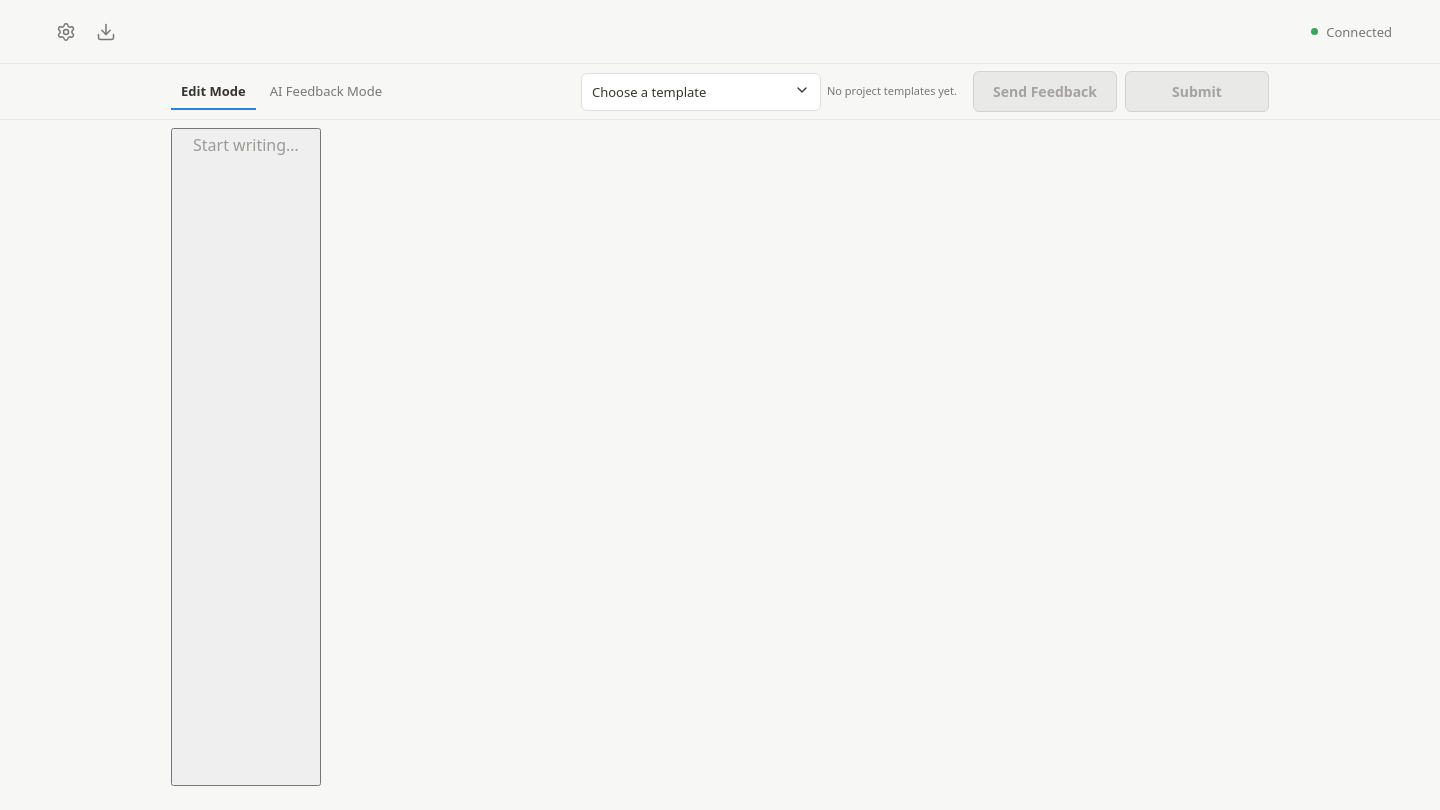
Test: App integration › Crepe 초기화가 실패하면 편집기 오류와 재시도 안내를 표시한다
Hover over the button with aria-label "Markdown command editor" at (246, 457), box [171,128,321,786]
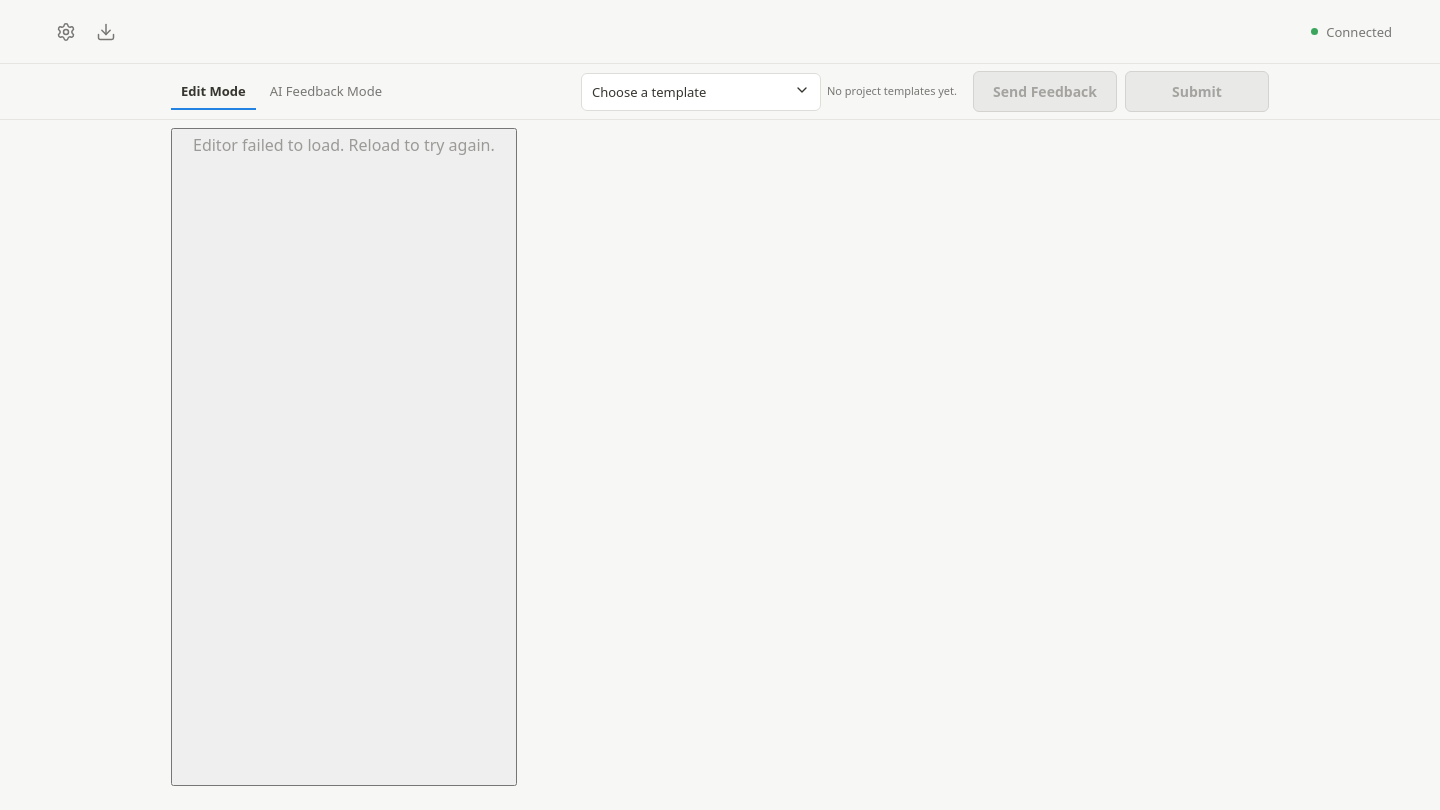
Expected: the button "Editor failed to load. Reload to try again." is shown, [171,128,517,786]
